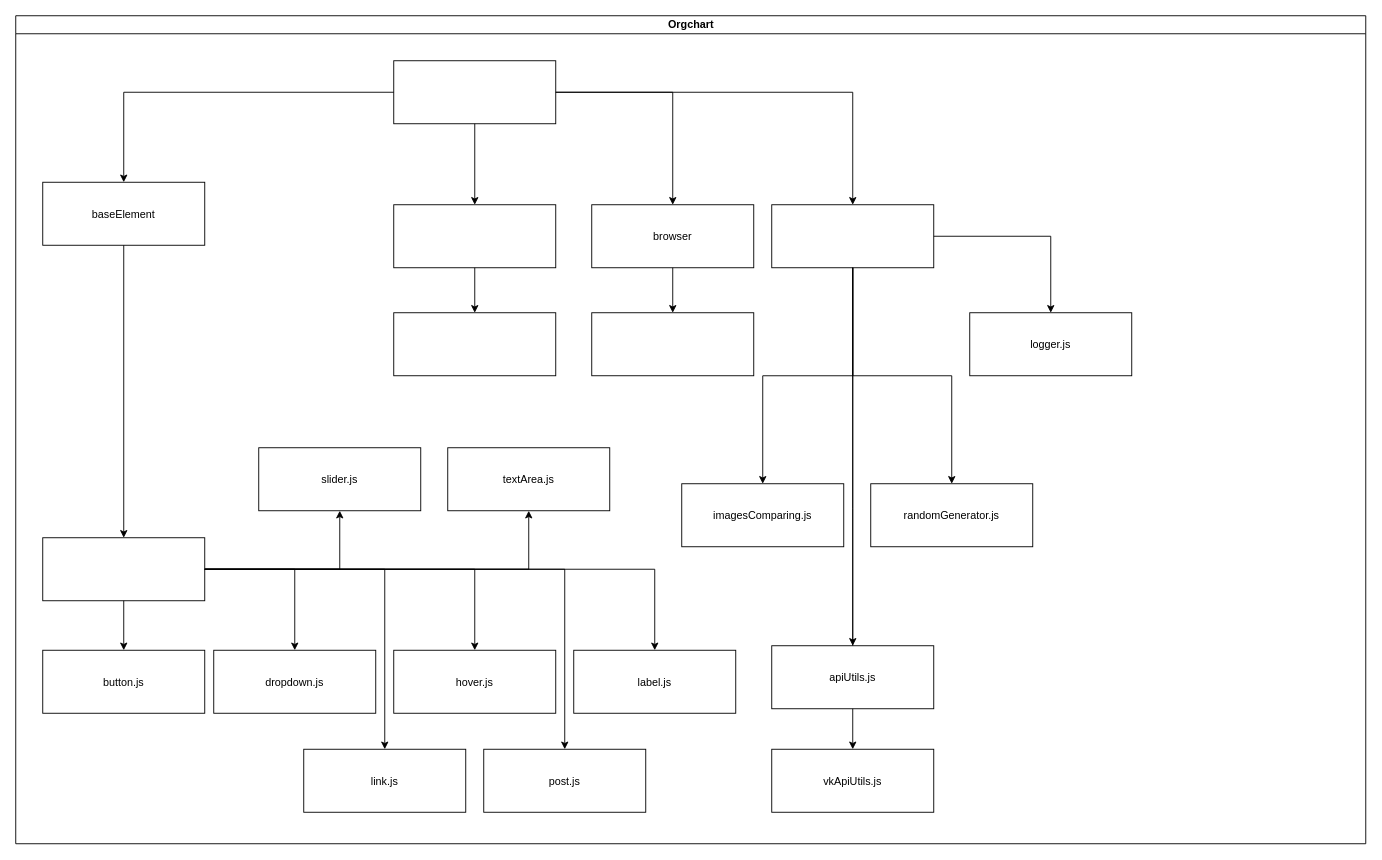
This 1382x860 diagram has some shape labels left out. The centre of each missing label's shape, as x and y in pixels:
"baseElement.js" goes at (123,569).
"basePage" goes at (474,236).
"basePage.js" goes at (474,344).
"browser.js" goes at (672,344).
"framework" goes at (474,92).
"utils" goes at (852,236).
